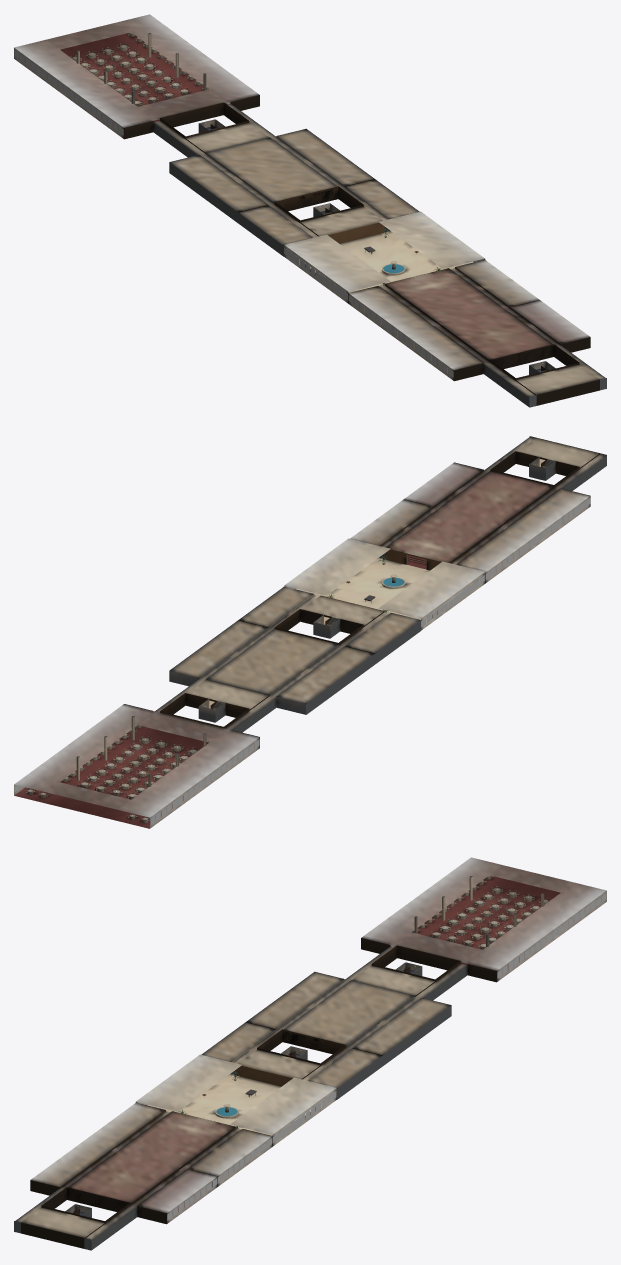
Rendered from deck5.glb.
The picture shows the model from 3 angles, top to bottom: view 1: azimuth 30°, elevation 25°; view 2: azimuth 150°, elevation 25°; view 3: azimuth 330°, elevation 25°; orthographic projection.
Parts seen in each view (by area): view 1: kr_decke, kr_holz, kr_wand, kr_teppich_lounge, kr_marmor, kr_stoff, kr_glas; view 2: kr_decke, kr_wand, kr_teppich_lounge, kr_holz, kr_marmor, kr_stoff, kr_glas; view 3: kr_decke, kr_holz, kr_wand, kr_teppich_lounge, kr_marmor, kr_stoff, kr_glas.
Boxes of the visible parts, left/top/right/bottom form: kr_decke: left=14, top=14, right=604, bottom=397; kr_holz: left=124, top=95, right=599, bottom=405; kr_wand: left=14, top=48, right=606, bottom=407; kr_teppich_lounge: left=60, top=33, right=203, bottom=135; kr_marmor: left=76, top=33, right=546, bottom=372; kr_stoff: left=70, top=32, right=536, bottom=403; kr_glas: left=14, top=50, right=482, bottom=377; kr_decke: left=14, top=437, right=606, bottom=817; kr_wand: left=14, top=436, right=606, bottom=828; kr_teppich_lounge: left=14, top=555, right=426, bottom=828; kr_holz: left=125, top=437, right=599, bottom=736; kr_marmor: left=76, top=459, right=554, bottom=786; kr_stoff: left=25, top=555, right=389, bottom=822; kr_glas: left=14, top=498, right=590, bottom=824; kr_decke: left=16, top=857, right=606, bottom=1240; kr_holz: left=21, top=938, right=496, bottom=1248; kr_wand: left=14, top=891, right=606, bottom=1250; kr_teppich_lounge: left=178, top=876, right=560, bottom=1211; kr_marmor: left=66, top=876, right=544, bottom=1213; kr_stoff: left=179, top=875, right=548, bottom=1128; kr_glas: left=138, top=893, right=606, bottom=1220.
Size of the model in its own units: 34.52 by 5.6 by 212.
